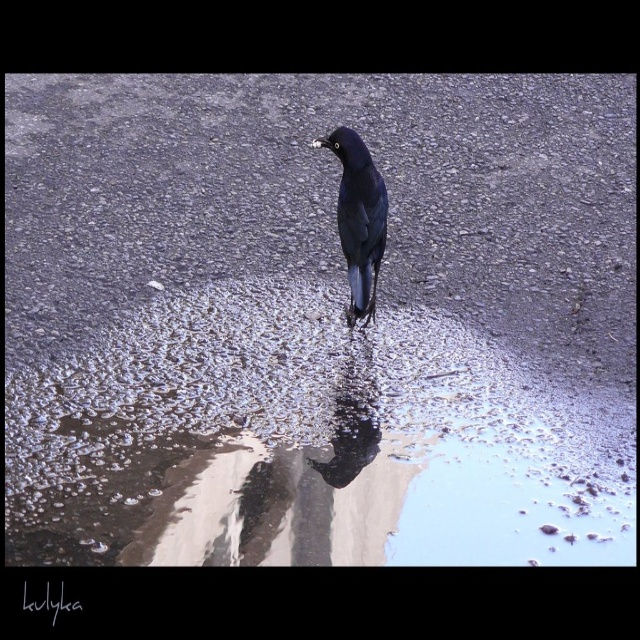Raven: (312, 126, 388, 329)
